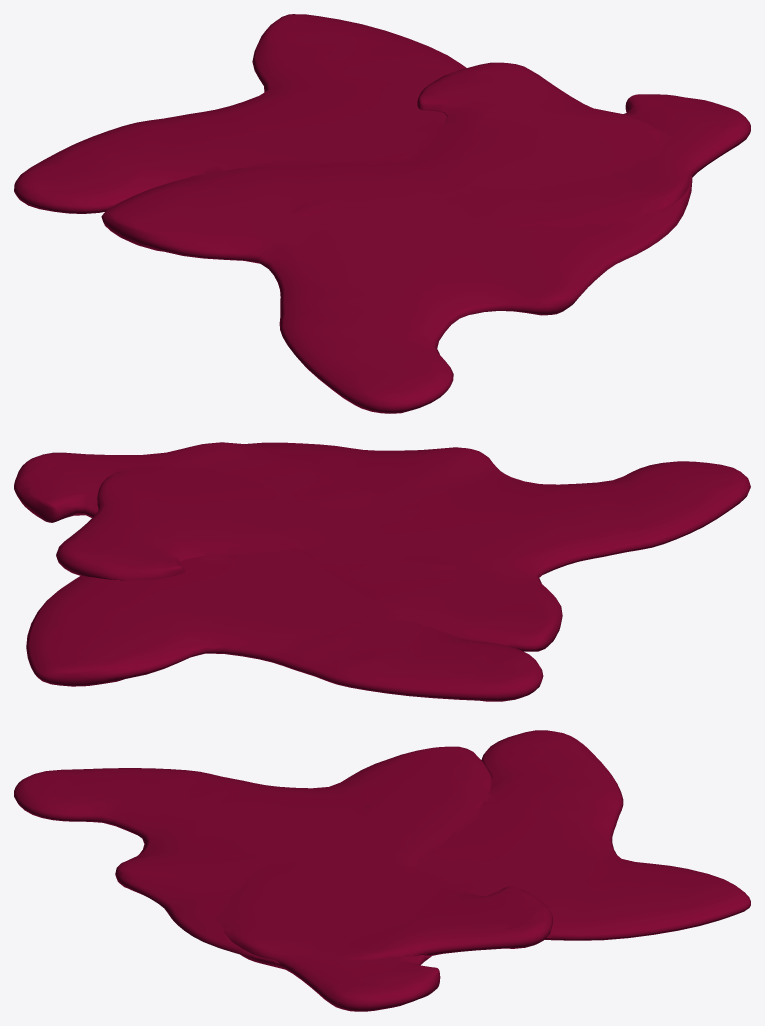
The model's file is BloodSpill.fbx.
3 views of the same model, one above another, from view 1: azimuth 30°, elevation 25°; view 2: azimuth 150°, elevation 25°; view 3: azimuth 270°, elevation 25° (orthographic). The views are drawn at different scales.
Visible parts, largest first — view 1: polySurface3; view 2: polySurface3; view 3: polySurface3.
Part boxes in pixels (box(x1,y1,x2,y2)): polySurface3: box(14, 14, 750, 413); polySurface3: box(14, 442, 750, 701); polySurface3: box(14, 730, 750, 1011).
Bounding box in the file's own units: 667 × 48.44 × 760.
